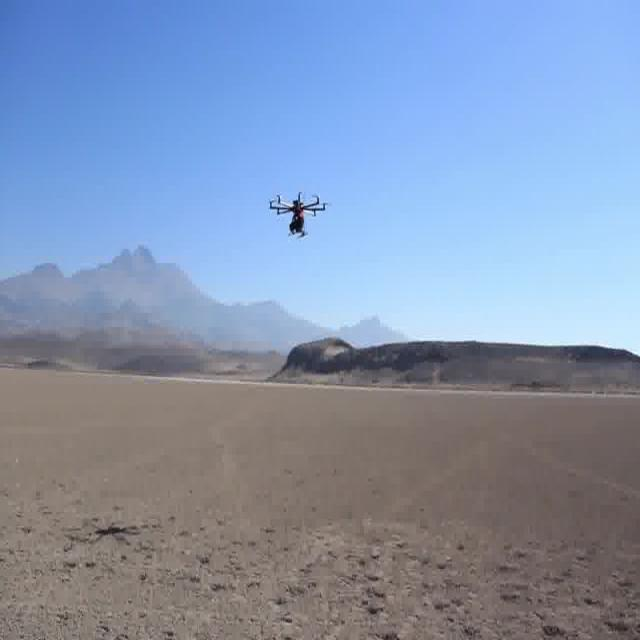drone: (266, 180, 330, 245)
